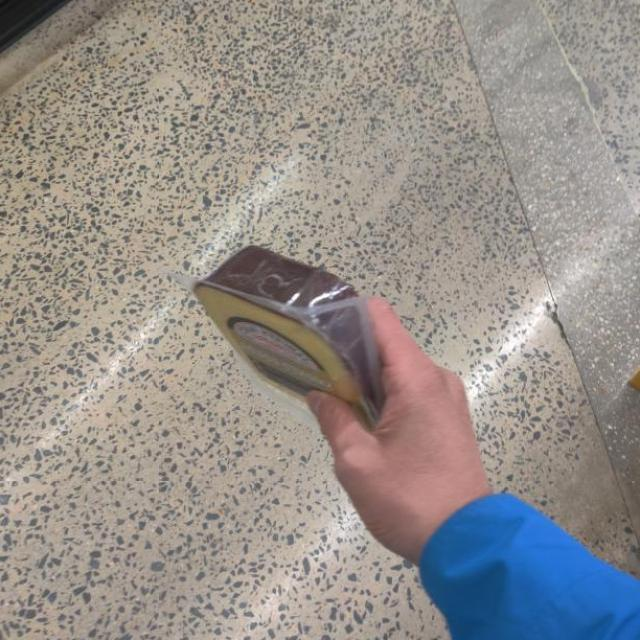Cheese: (191, 243, 367, 419)
